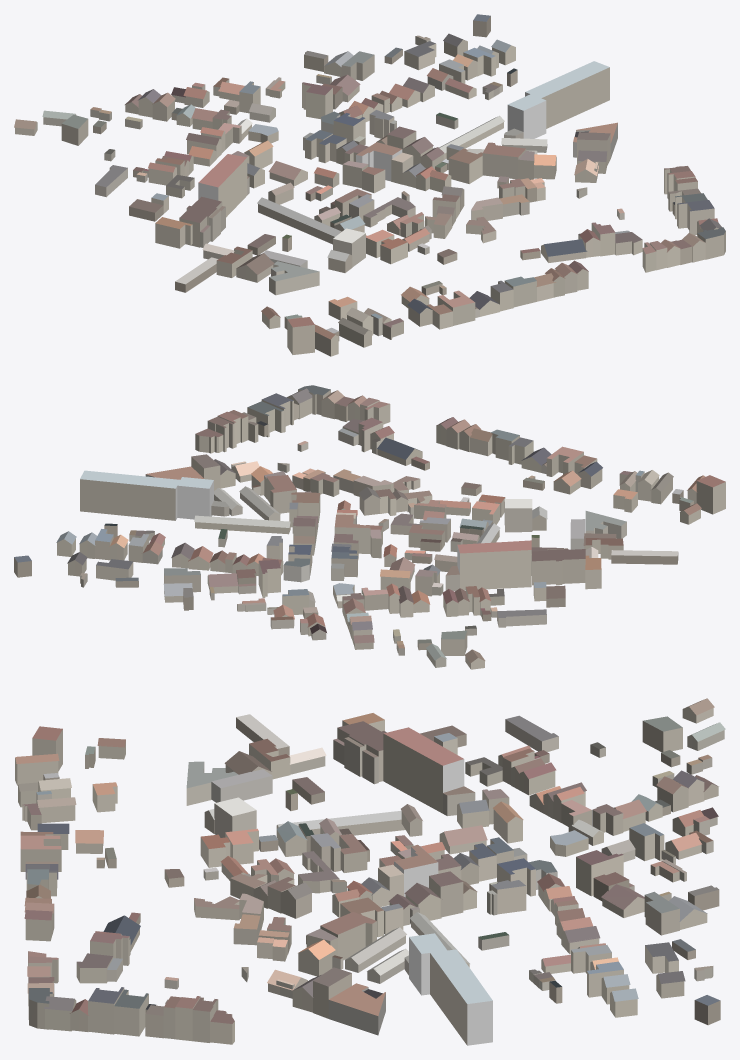
The picture shows the model from 3 angles, top to bottom: view 1: azimuth 30°, elevation 25°; view 2: azimuth 150°, elevation 25°; view 3: azimuth 270°, elevation 25°; orthographic projection. The views are drawn at different scales.
Parts seen in each view (by area): view 1: tuile; view 2: tuile; view 3: tuile.
Part boxes in pixels (x1=…): tuile: x1=14, y1=14, x2=725, y2=356; tuile: x1=14, y1=385, x2=725, y2=669; tuile: x1=15, y1=698, x2=725, y2=1045.
Size of the model in its own units: 279 by 28.38 by 263.
